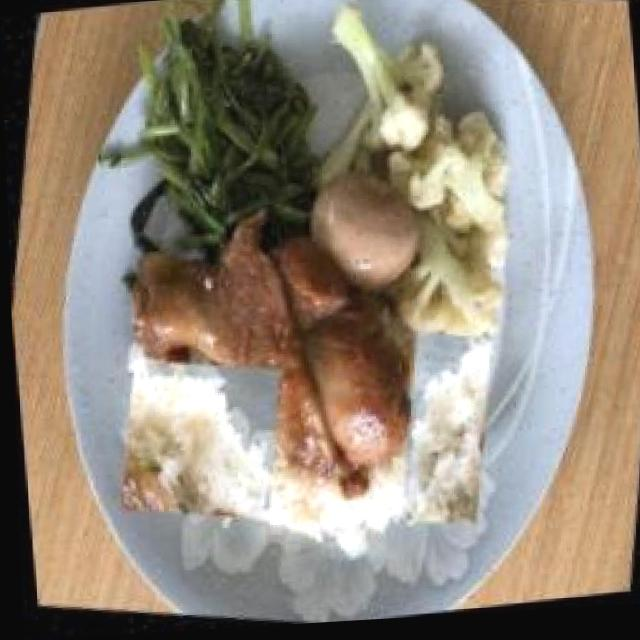rice: (103, 347, 292, 539), (380, 330, 504, 539)
water_spinach: (67, 0, 361, 299)
